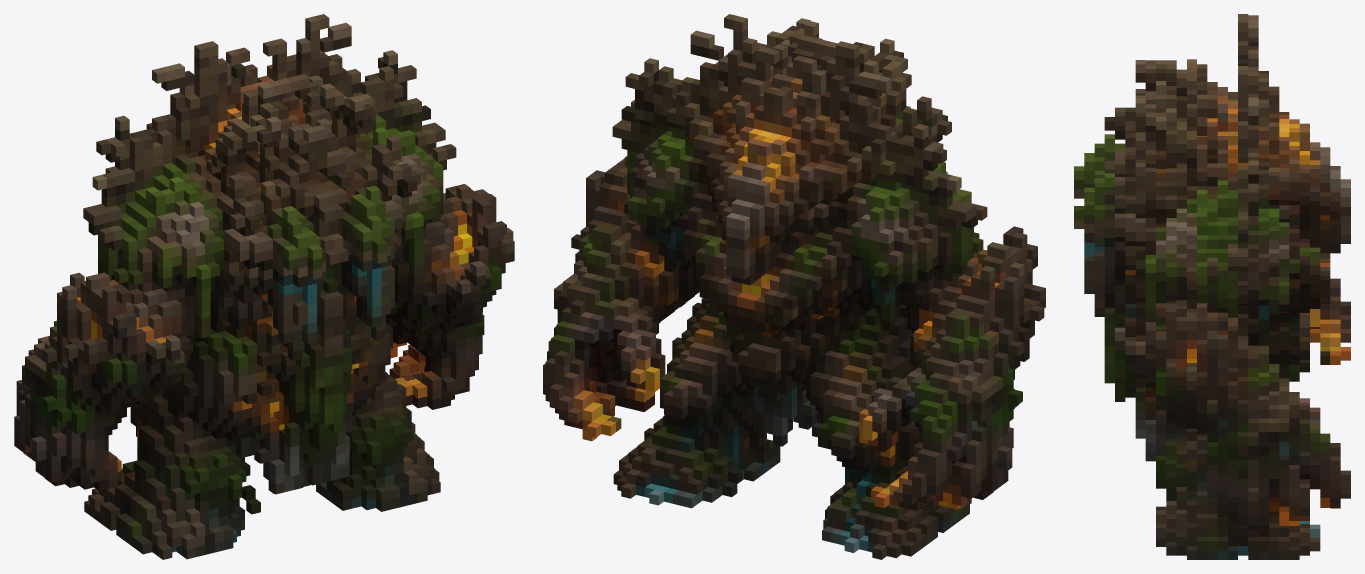
The model's file is u_brule_haie.glb.
3 views of the same model, side by side, from view 1: azimuth 30°, elevation 25°; view 2: azimuth 150°, elevation 25°; view 3: azimuth 270°, elevation 25° (orthographic). The views are drawn at different scales.
Visible parts, largest first — view 1: brule_haie_body; view 2: brule_haie_body; view 3: brule_haie_body.
Part boxes in pixels (box(x1,y1,x2,y2)): brule_haie_body: box(14, 14, 514, 559); brule_haie_body: box(543, 14, 1045, 559); brule_haie_body: box(1074, 14, 1350, 559).
Size of the model in its own units: 1.38 by 1.38 by 0.7734.
1 material, 1 textured.
